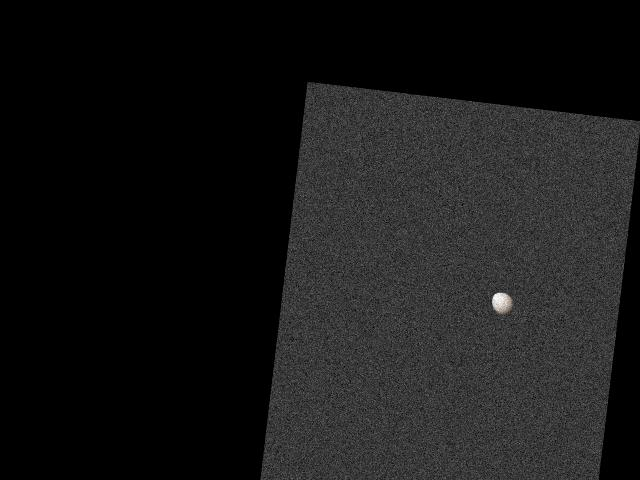egg: (490, 291, 515, 317)
